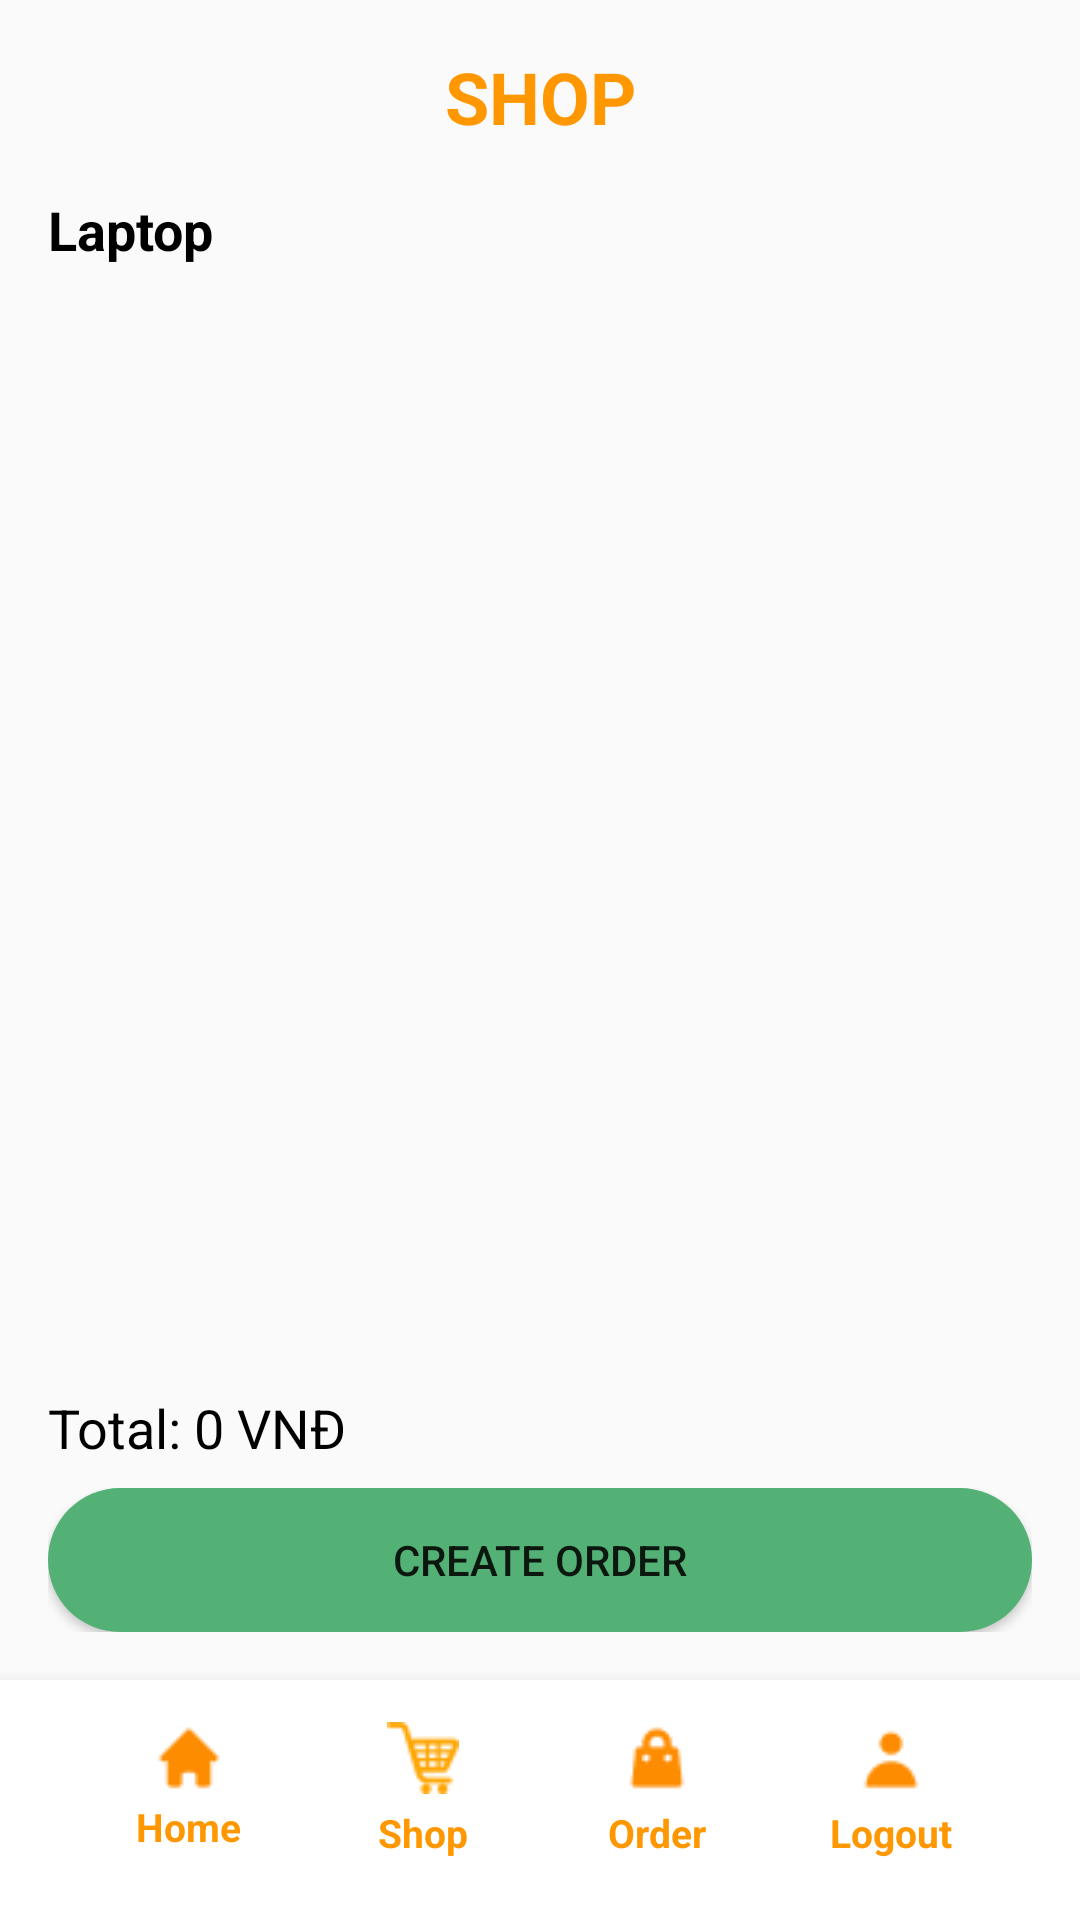

Named icons in this screenshot (1080px×1920px) and their centers, (x=x, y=y):
Profile: (x=891, y=1759)
